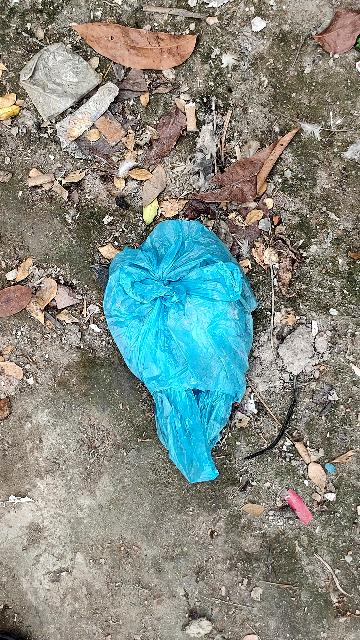polythene: (111, 225, 255, 469)
